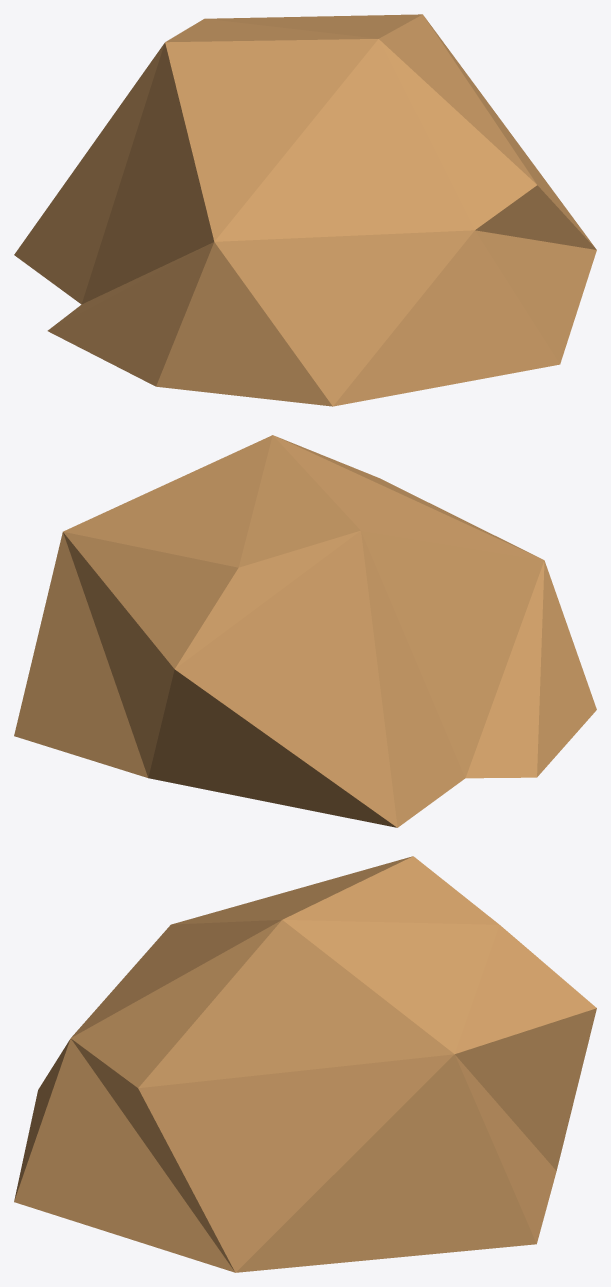
Rendered from decoration_stone_07.glb.
3 renders of one model, top to bottom at view 1: azimuth 30°, elevation 25°; view 2: azimuth 150°, elevation 25°; view 3: azimuth 270°, elevation 25°, orthographic. The views are drawn at different scales.
Visible parts, largest first — view 1: Plane.064; view 2: Plane.064; view 3: Plane.064.
Part boxes in pixels (x1,y1,x2,y2): Plane.064: (14, 14, 596, 406); Plane.064: (14, 435, 596, 827); Plane.064: (14, 856, 596, 1272).
Size of the model in its own units: 18.76 by 8.88 by 18.39.
Materials: 1 (1 with a texture image).
